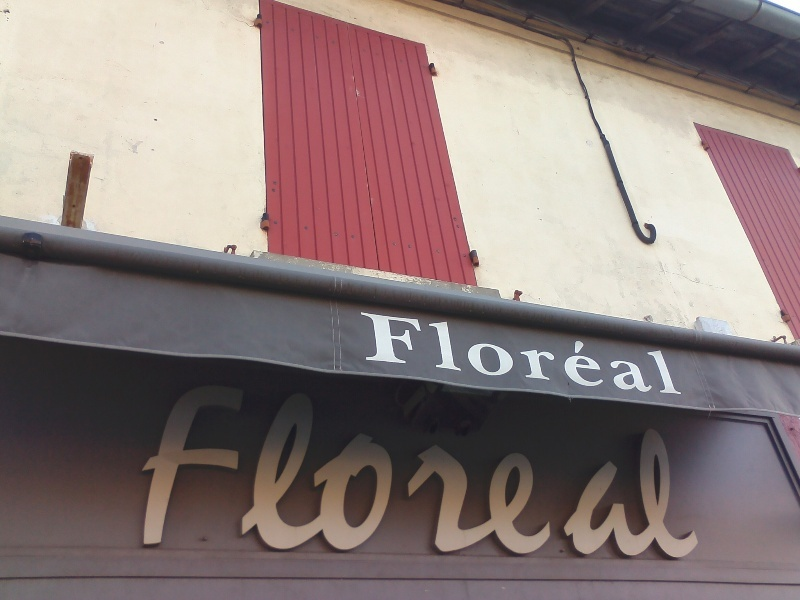text: (161, 370, 176, 562), (177, 370, 192, 562), (193, 370, 208, 562), (209, 370, 224, 562), (225, 370, 240, 562), (241, 370, 256, 562), (257, 370, 272, 562), (273, 370, 288, 562), (289, 370, 304, 562), (305, 370, 320, 562), (321, 370, 336, 562), (337, 370, 352, 562), (353, 370, 368, 562), (369, 370, 384, 562), (385, 370, 400, 562), (401, 370, 416, 562), (417, 370, 432, 562), (433, 370, 448, 562), (449, 370, 464, 562), (465, 370, 480, 562), (481, 370, 496, 562), (497, 370, 512, 562), (513, 370, 528, 562), (529, 370, 544, 562), (545, 370, 560, 562), (561, 370, 576, 562), (577, 370, 592, 562), (593, 370, 608, 562), (609, 370, 624, 562), (625, 370, 640, 562), (641, 370, 656, 562), (657, 370, 672, 562), (673, 370, 688, 562), (689, 370, 704, 562), (369, 304, 384, 401), (385, 304, 400, 401), (401, 304, 416, 401), (417, 304, 432, 401), (433, 304, 448, 401), (449, 304, 464, 401), (465, 304, 480, 401), (481, 304, 496, 401), (497, 304, 512, 401), (513, 304, 528, 401), (529, 304, 544, 401), (545, 304, 560, 401), (561, 304, 576, 401), (577, 304, 592, 401), (593, 304, 608, 401), (609, 304, 624, 401), (625, 304, 640, 401), (641, 304, 656, 401), (657, 304, 672, 401), (356, 304, 368, 401), (673, 304, 685, 401), (154, 370, 160, 562), (705, 370, 711, 562)
